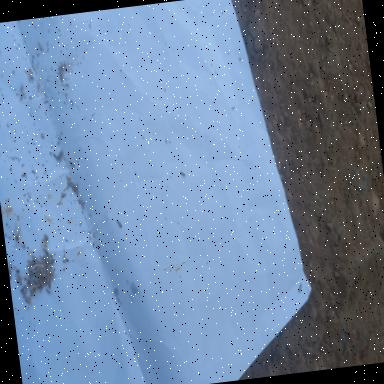pbw: (13, 220, 23, 242), (27, 282, 41, 296), (44, 264, 52, 288), (40, 232, 50, 250), (7, 260, 14, 280), (24, 68, 34, 80), (70, 181, 78, 195), (16, 268, 22, 286), (57, 65, 63, 82), (22, 272, 30, 283), (56, 149, 63, 161), (39, 266, 46, 278), (116, 219, 122, 227), (179, 170, 185, 176)
